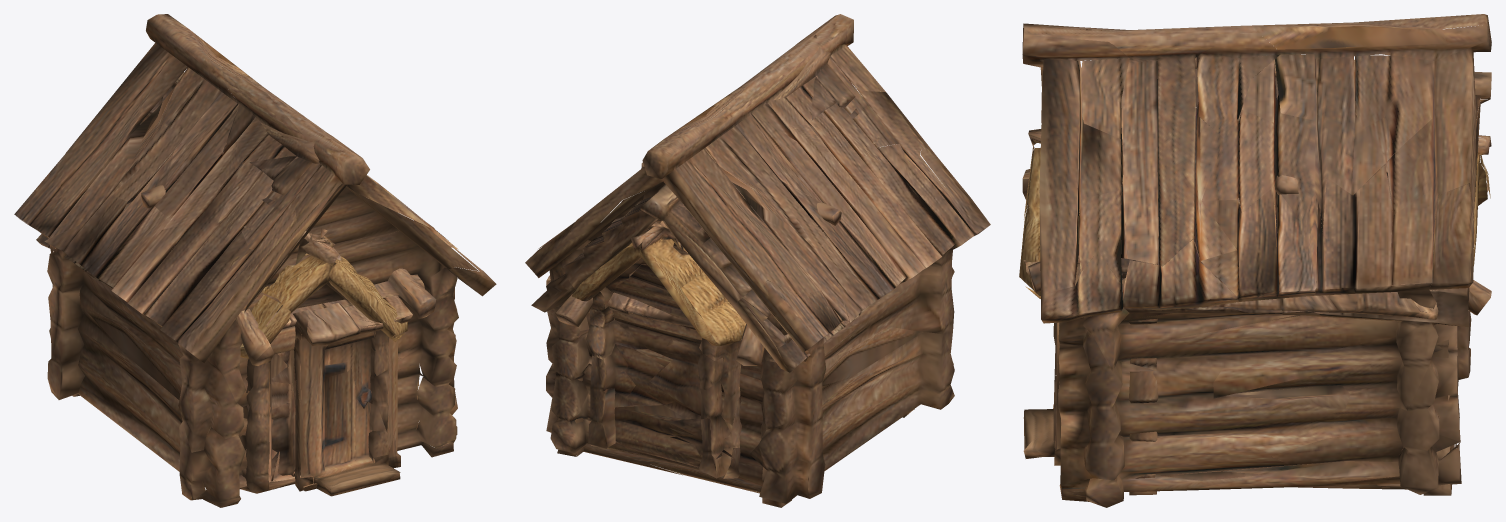
The model's file is cinematic_log_cabin.glb.
3 renders of one model, left to right at view 1: azimuth 30°, elevation 25°; view 2: azimuth 150°, elevation 25°; view 3: azimuth 270°, elevation 25°, orthographic. The views are drawn at different scales.
Visible parts, largest first — view 1: Cabin01, Cabin03, Cabin02, Cabin04; view 2: Cabin01, Cabin02, Cabin03, Cabin04; view 3: Cabin01, Cabin03, Cabin04, Cabin02.
Boxes of the visible parts, box(x1,y1,x2,y2) form: Cabin01: box(14, 14, 496, 507); Cabin03: box(36, 72, 419, 496); Cabin02: box(239, 228, 407, 492); Cabin04: box(53, 185, 436, 491); Cabin01: box(525, 14, 990, 503); Cabin02: box(572, 220, 745, 478); Cabin03: box(531, 34, 914, 507); Cabin04: box(546, 161, 848, 365); Cabin01: box(1022, 14, 1491, 507); Cabin03: box(1023, 29, 1491, 495); Cabin04: box(1022, 169, 1491, 487); Cabin02: box(1019, 129, 1491, 450).
Size of the model in its own units: 4.97 by 5.25 by 5.44.
1 material, 1 textured.
